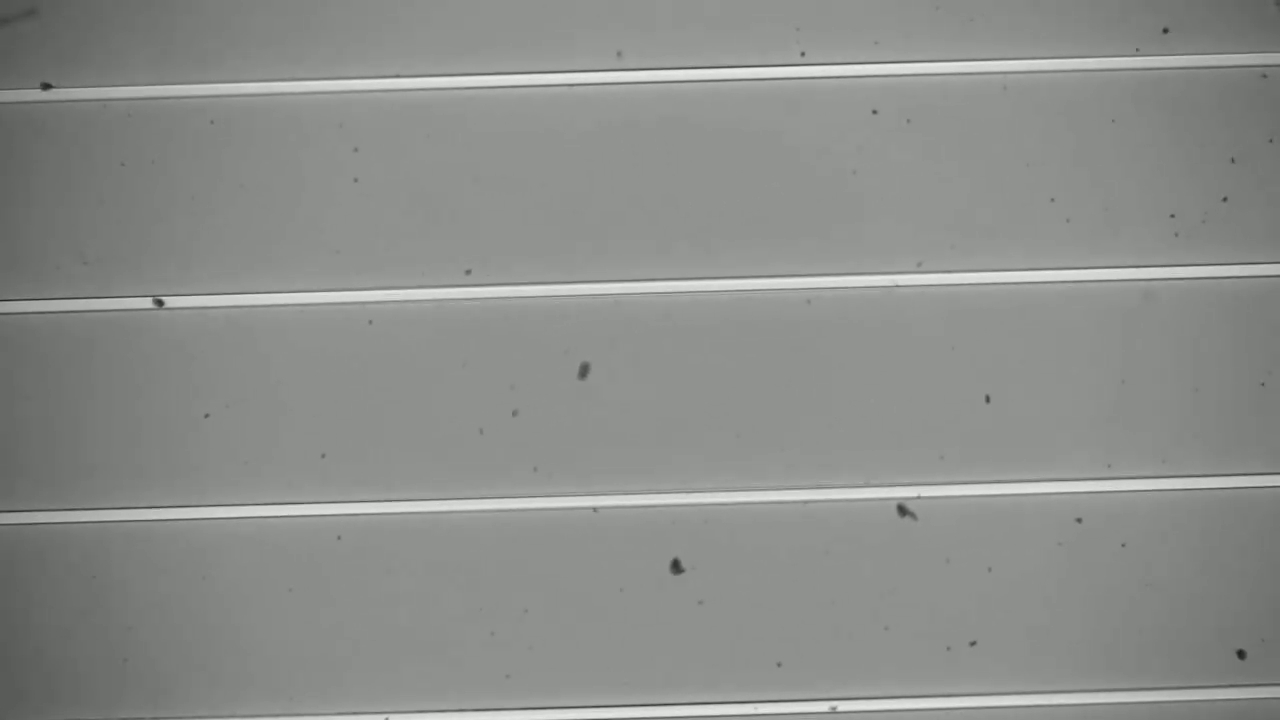stains_enbedded: (143, 288, 171, 318)
